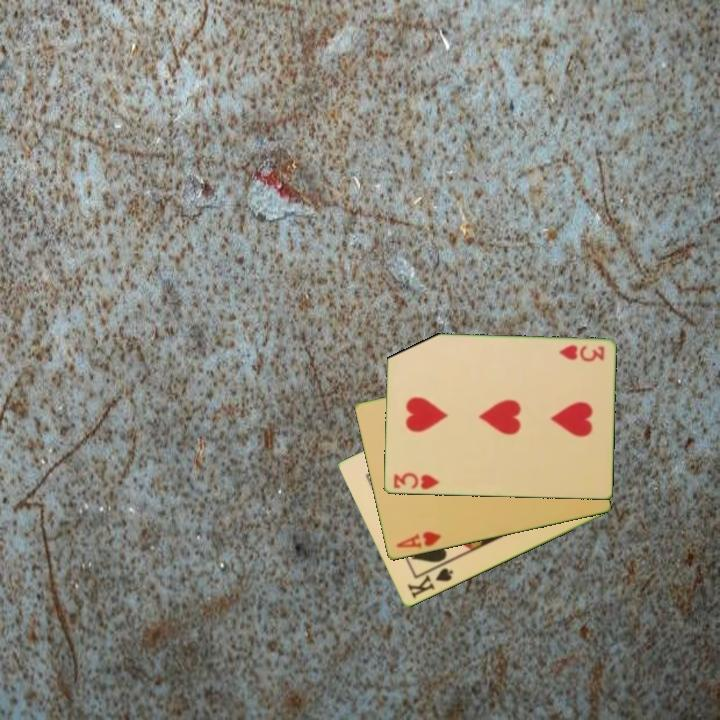3h: (390, 470, 442, 493), (555, 342, 607, 364)
Ah: (392, 528, 444, 551)
Ks: (403, 560, 456, 602)
